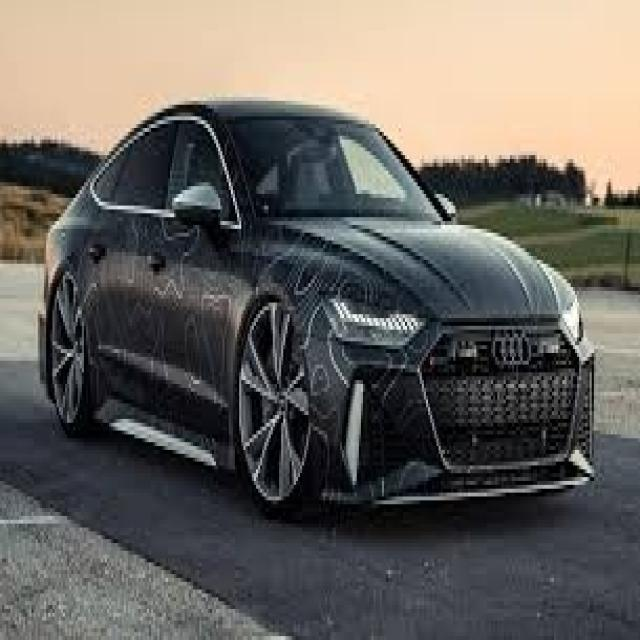black: (30, 89, 618, 512)
